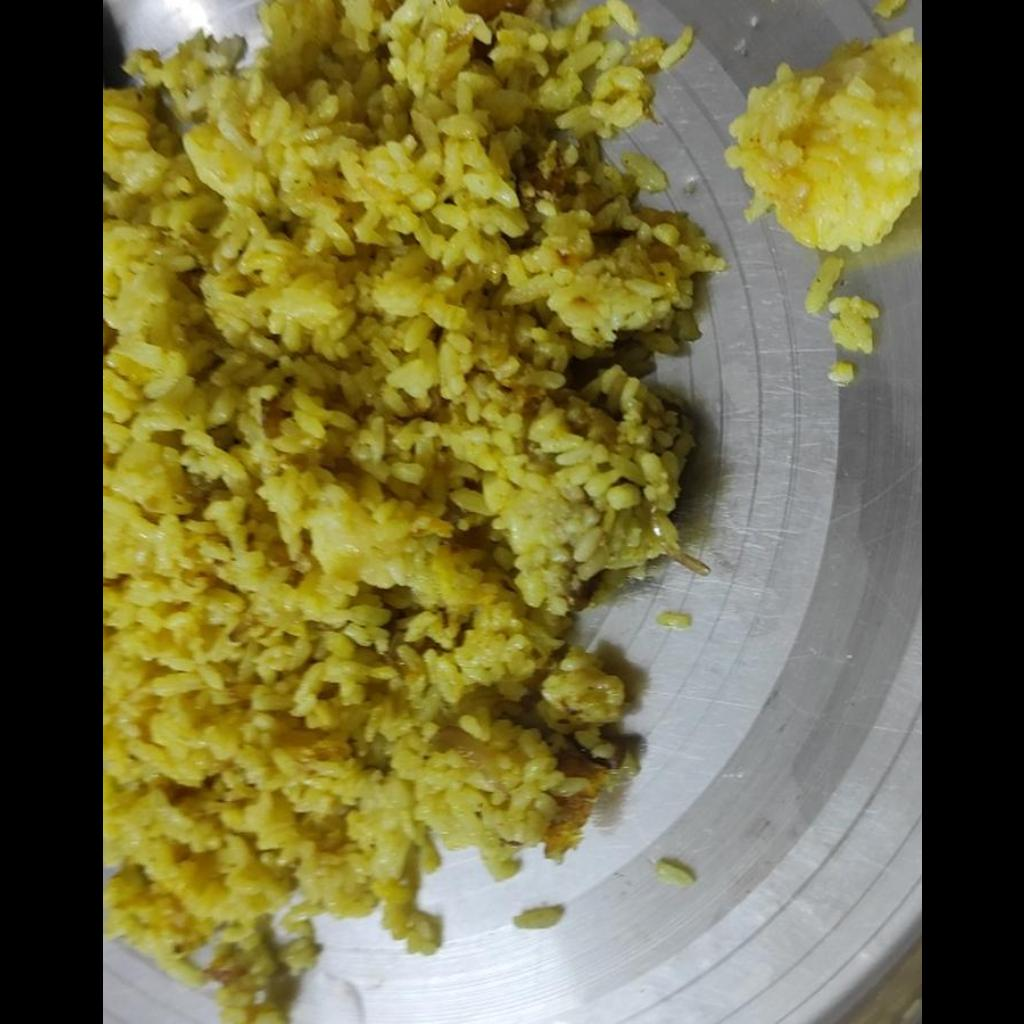khichuri: (102, 2, 722, 1007), (724, 30, 920, 311), (830, 297, 871, 350)
